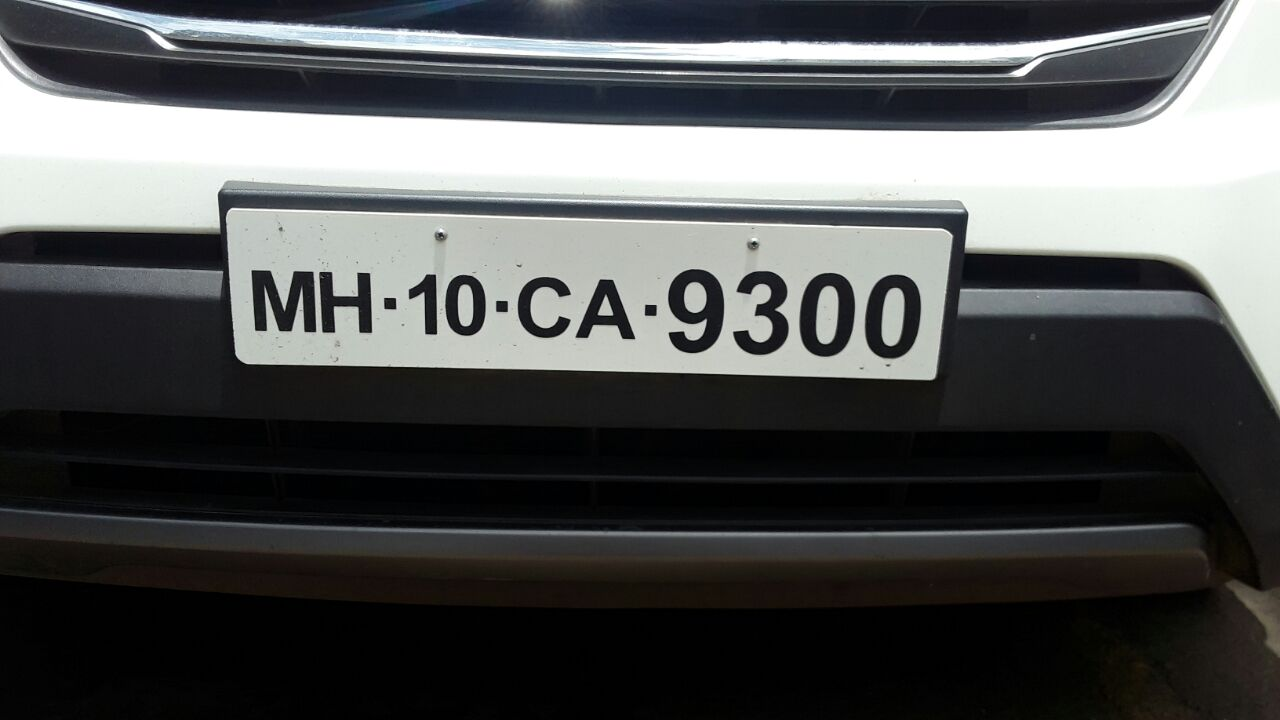licenseplate: (203, 180, 973, 407)
